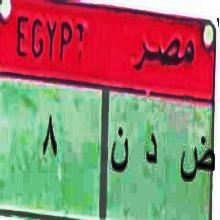8: (41, 110, 59, 168)
daad: (176, 131, 217, 195)
daal: (145, 131, 160, 176)
noon: (110, 123, 129, 180)
